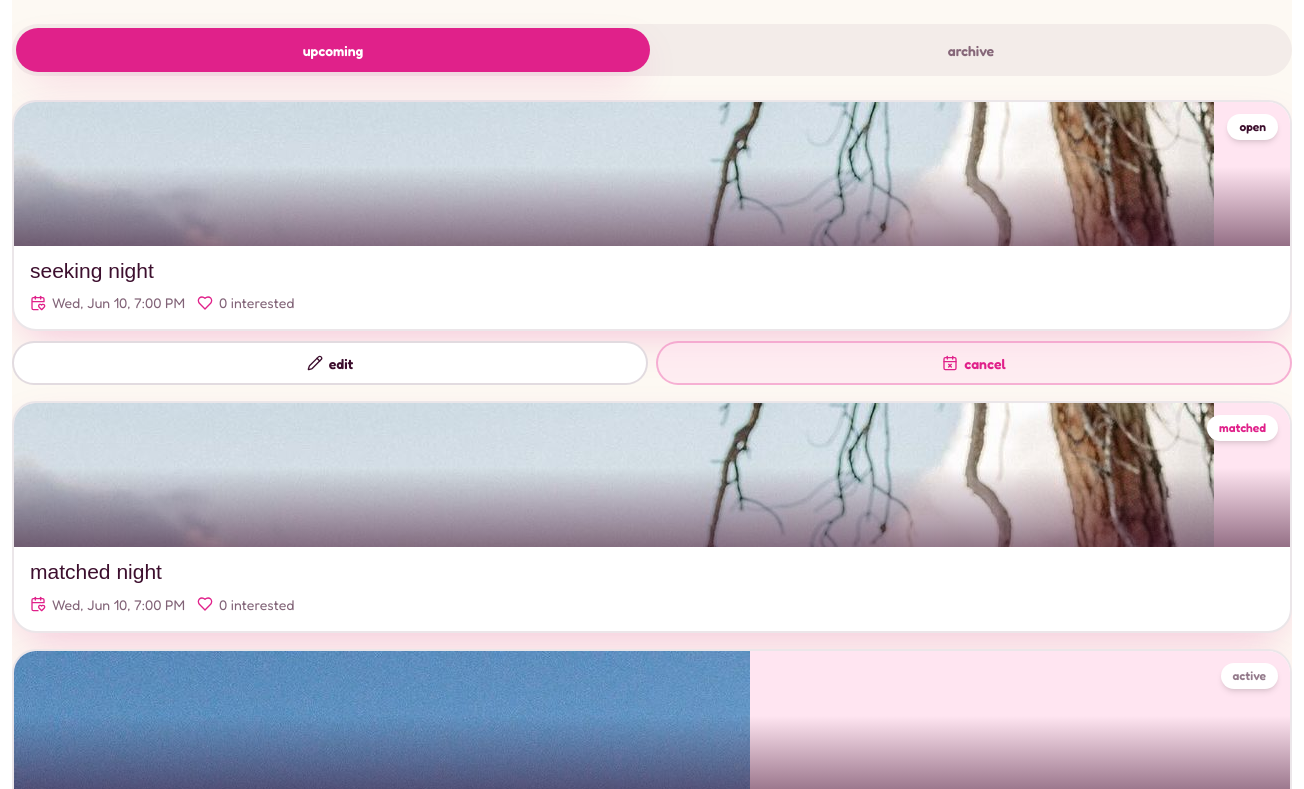
it: NightsSegments — upcoming/archive toggle › switching to archive shows only completed/expired/cancelled
This screenshot has width=1304, height=789.
What coordinates should you click on to do the following:
click the tab "archive"
I would click on:
 (971, 50)
Its box is [654,28,1288,72].
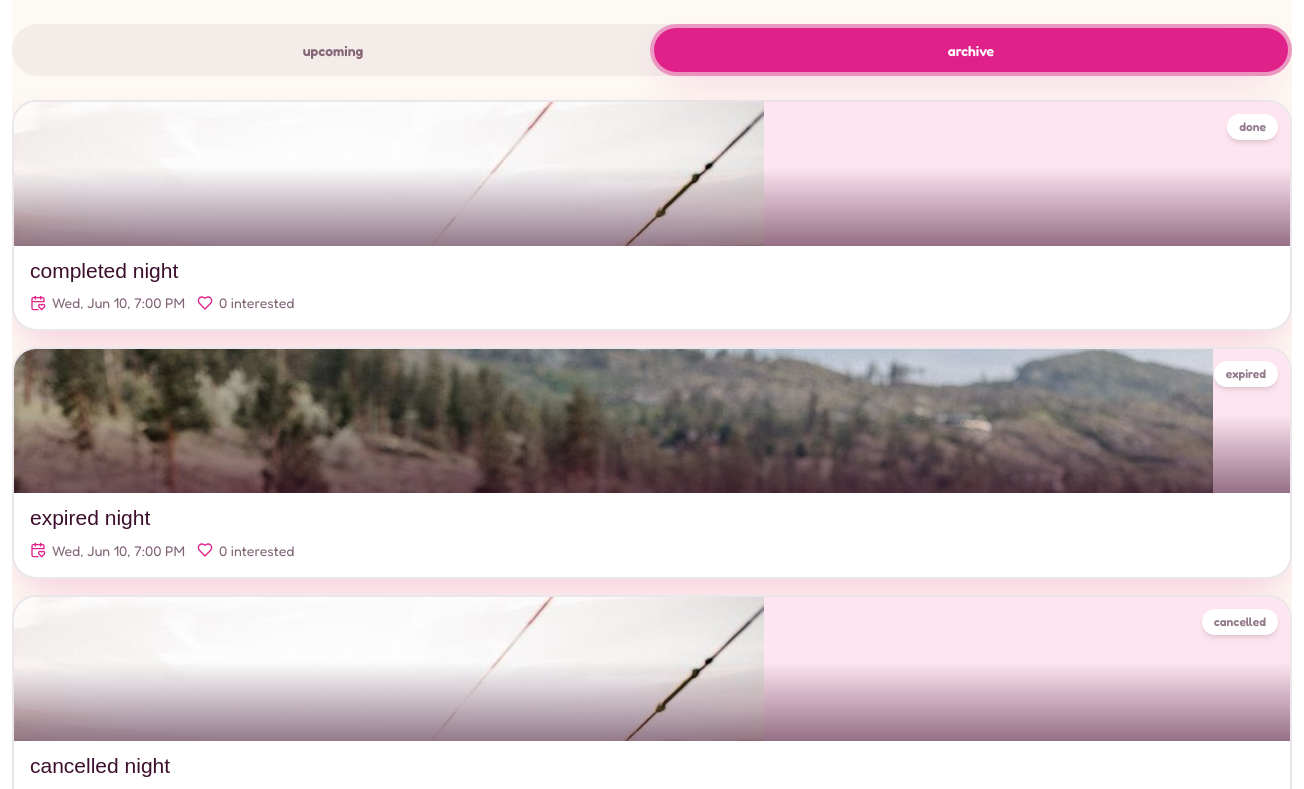
Expected: the text "completed night" is shown, [30,259,178,282]
Expected: the text "expired night" is shown, [30,506,150,529]
Expected: the text "cancelled night" is shown, [30,754,170,776]
